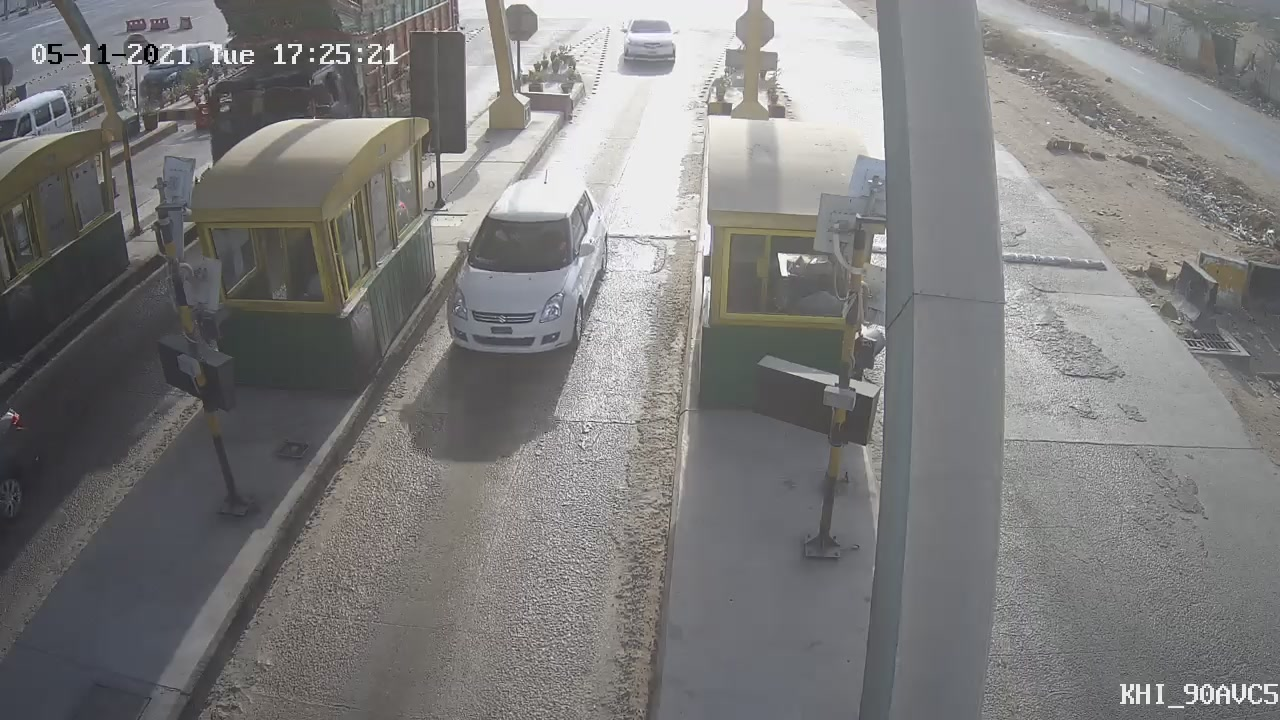F1: (420, 157, 626, 378)
